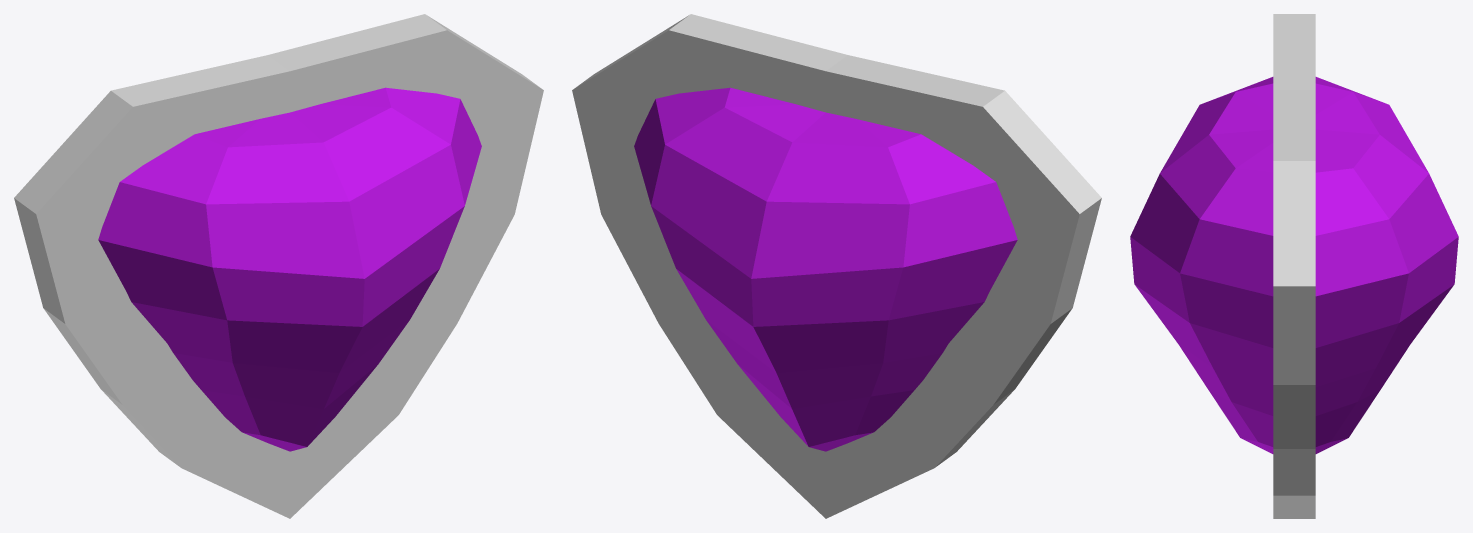
File: Ruby.fbx
The picture shows the model from 3 angles, left to right: view 1: azimuth 30°, elevation 25°; view 2: azimuth 150°, elevation 25°; view 3: azimuth 270°, elevation 25°; orthographic projection. The views are drawn at different scales.
Parts seen in each view (by area): view 1: Ruby; view 2: Ruby; view 3: Ruby.
Boxes of the visible parts, left/top/right/bottom form: Ruby: left=14, top=14, right=543, bottom=518; Ruby: left=572, top=14, right=1101, bottom=518; Ruby: left=1130, top=14, right=1458, bottom=518.
Size of the model in its own units: 183 by 155 by 107.
